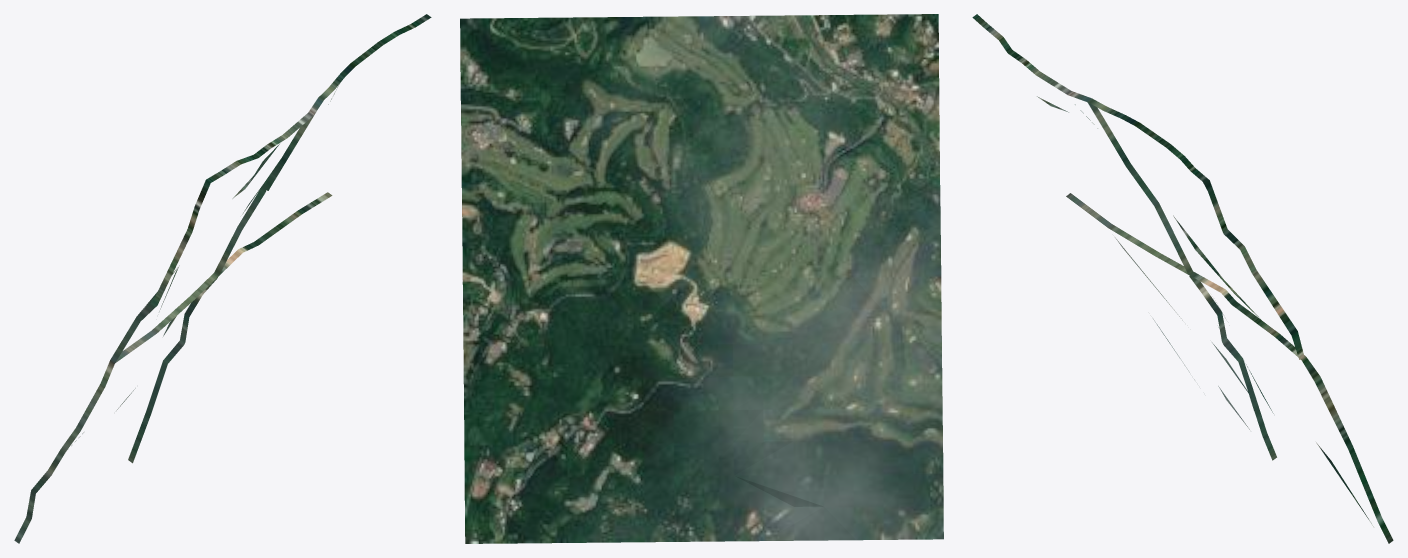
3 views of the same model, side by side, from view 1: azimuth 30°, elevation 25°; view 2: azimuth 150°, elevation 25°; view 3: azimuth 270°, elevation 25° (orthographic). The views are drawn at different scales.
Size of the model in its own units: 2474 by 2231 by 2058.
1 material, 1 textured.
